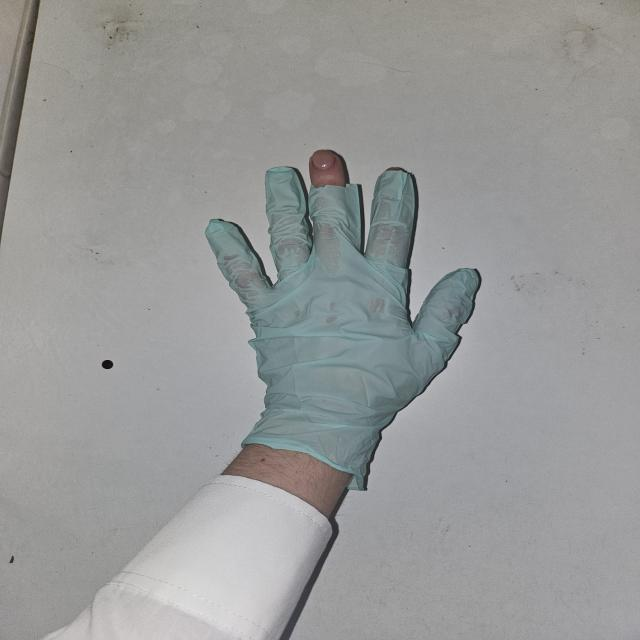gloves_damaged: (202, 145, 488, 490)
